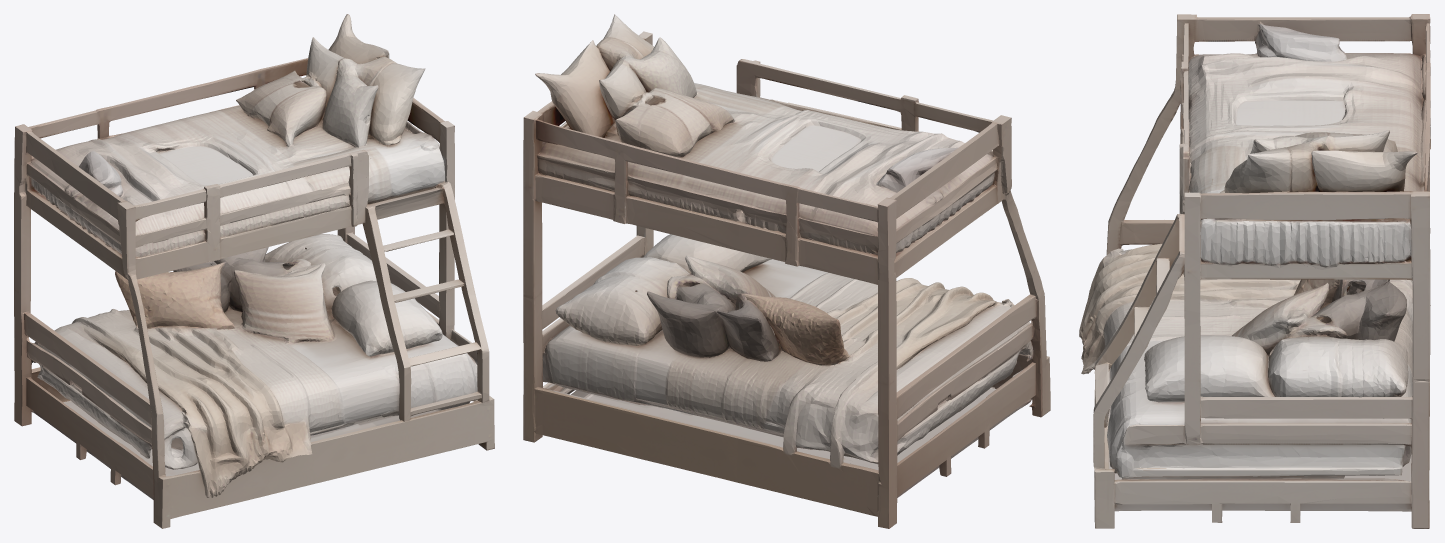
Rendered from LITERA VENTO.glb.
The picture shows the model from 3 angles, left to right: view 1: azimuth 30°, elevation 25°; view 2: azimuth 150°, elevation 25°; view 3: azimuth 270°, elevation 25°; orthographic projection. The views are drawn at different scales.
Visible parts, largest first — view 1: world; view 2: world; view 3: world.
Part boxes in pixels (box(x1,y1,x2,y2)): world: box(14, 14, 494, 528); world: box(523, 14, 1050, 528); world: box(1079, 14, 1430, 528).
Size of the model in its own units: 1 by 0.9493 by 0.8091.
1 material, 1 textured.
